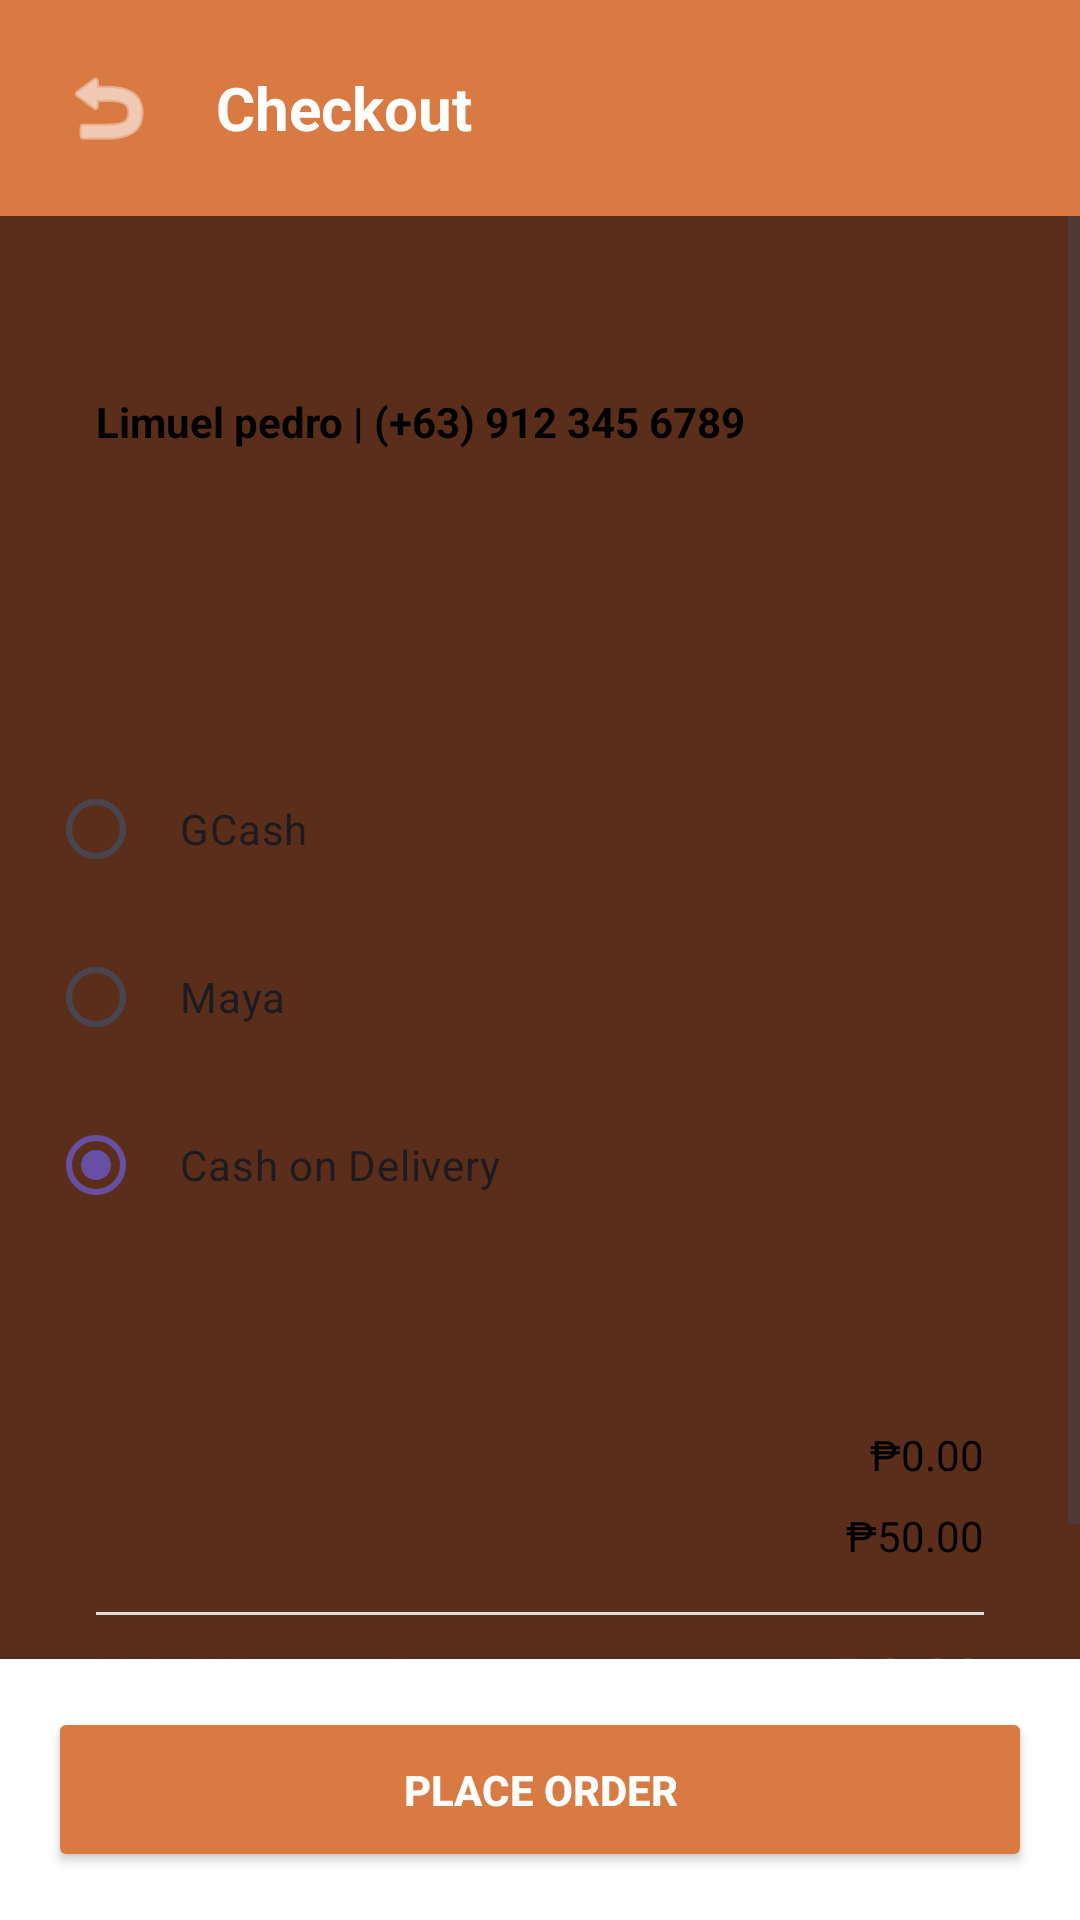

Icons on this 1080w x 1920h Android screen, each with the point to tap as point (x, y):
revert: point (109, 108)
